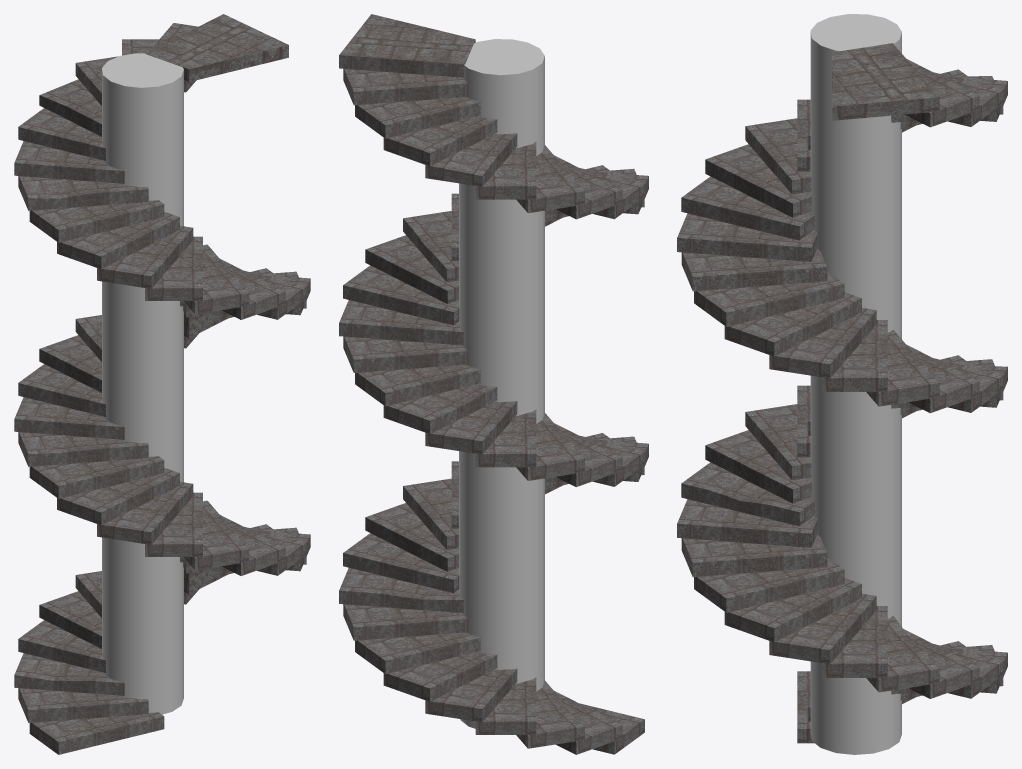
File: Spiral Staircase.fbx
3 renders of one model, left to right at view 1: azimuth 30°, elevation 25°; view 2: azimuth 150°, elevation 25°; view 3: azimuth 270°, elevation 25°, orthographic. The views are drawn at different scales.
Parts seen in each view (by area): view 1: Cube; view 2: Cube; view 3: Cube.
Part boxes in pixels (x1,y1,x2,y2): Cube: (14, 14, 310, 754); Cube: (339, 14, 648, 754); Cube: (677, 14, 1007, 754).
Size of the model in its own units: 483 by 1146 by 482.
